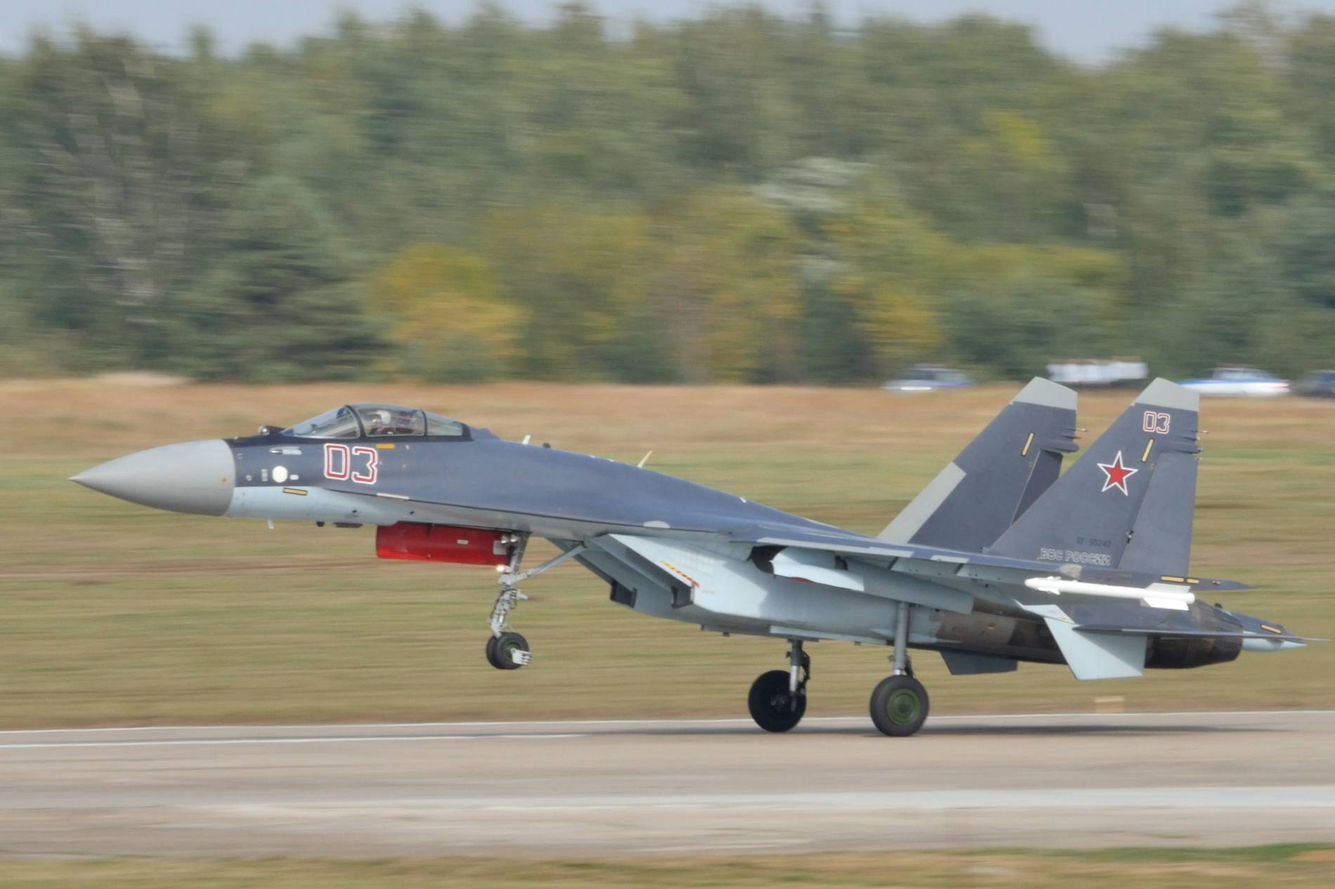Su35: (66, 372, 1321, 740)
